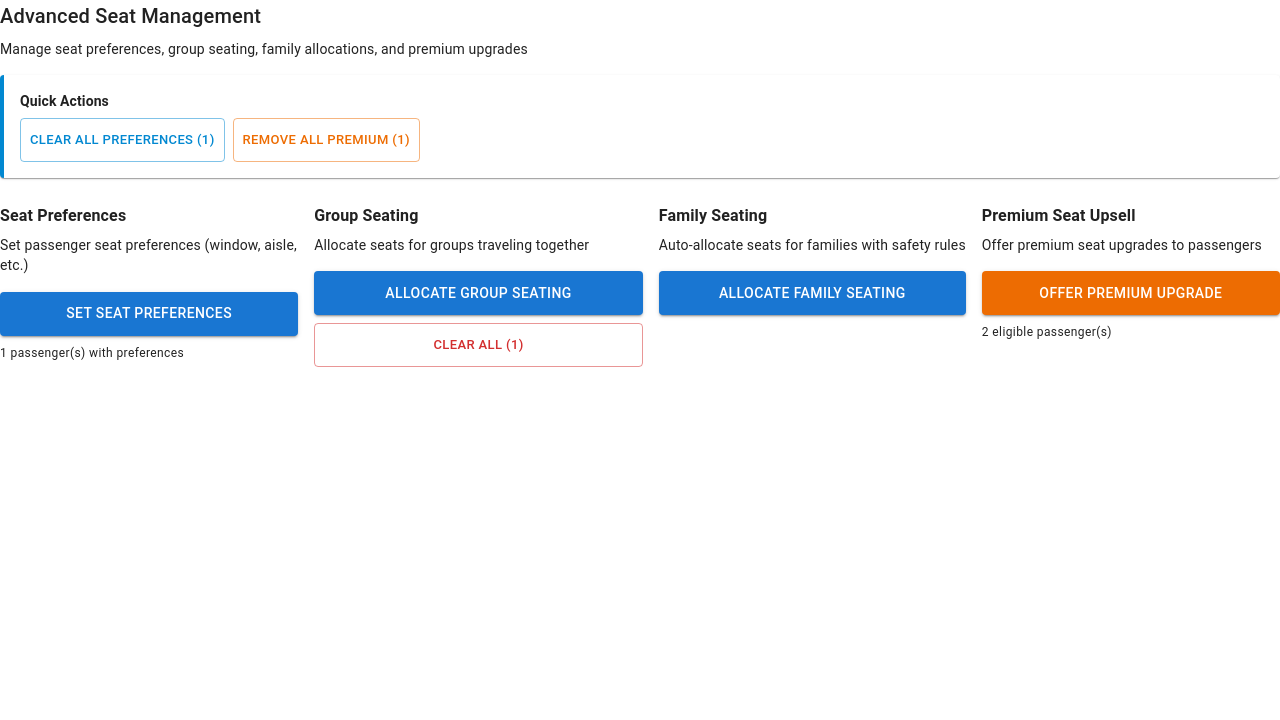
Test: SeatManagementTab › Action Buttons › should open passenger selection dialog for seat preferences
Click the button "Set Seat Preferences".
click(149, 314)  # box [0, 292, 298, 336]
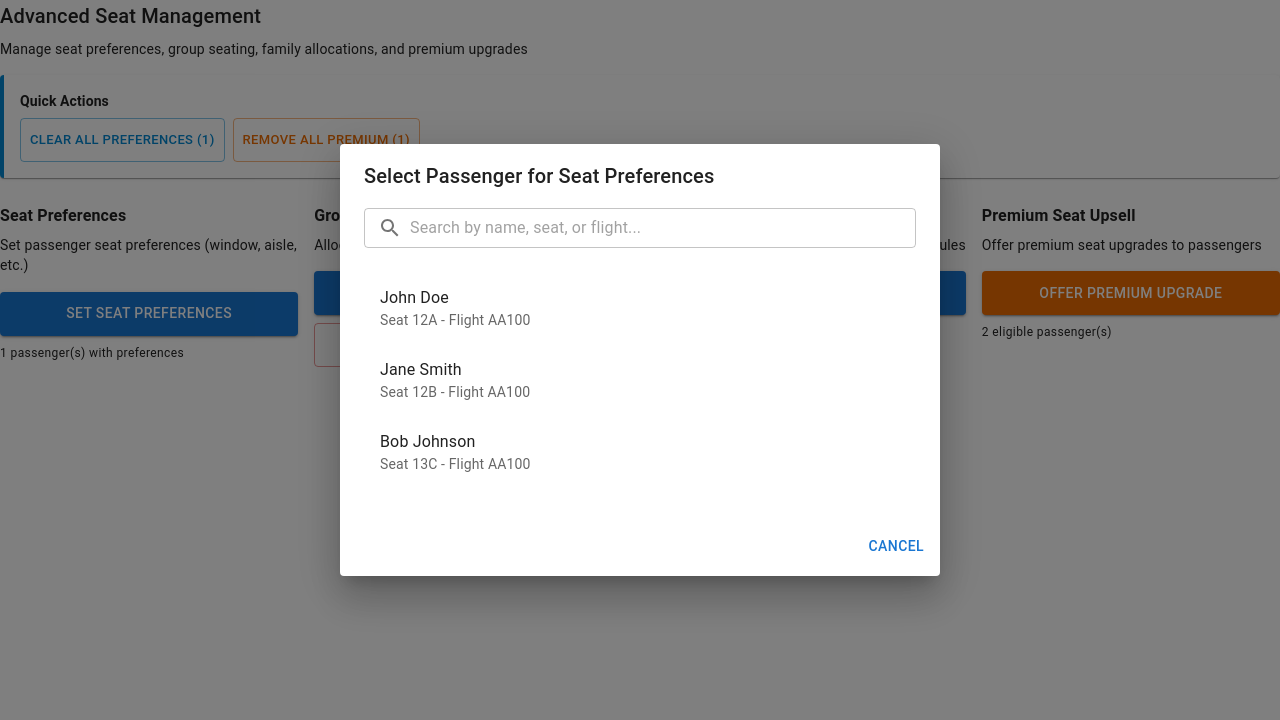
Check: the heading "Select Passenger for Seat Preferences" is shown, box [364, 164, 714, 188]
